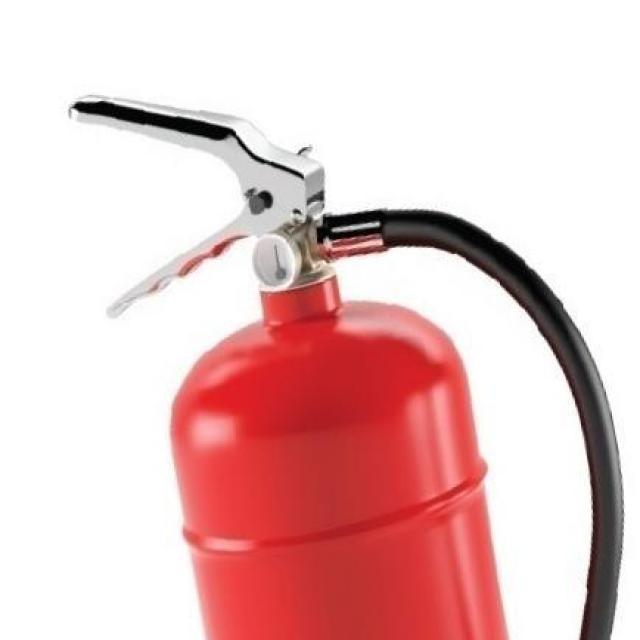fire_extinguisher: (62, 89, 638, 639)
